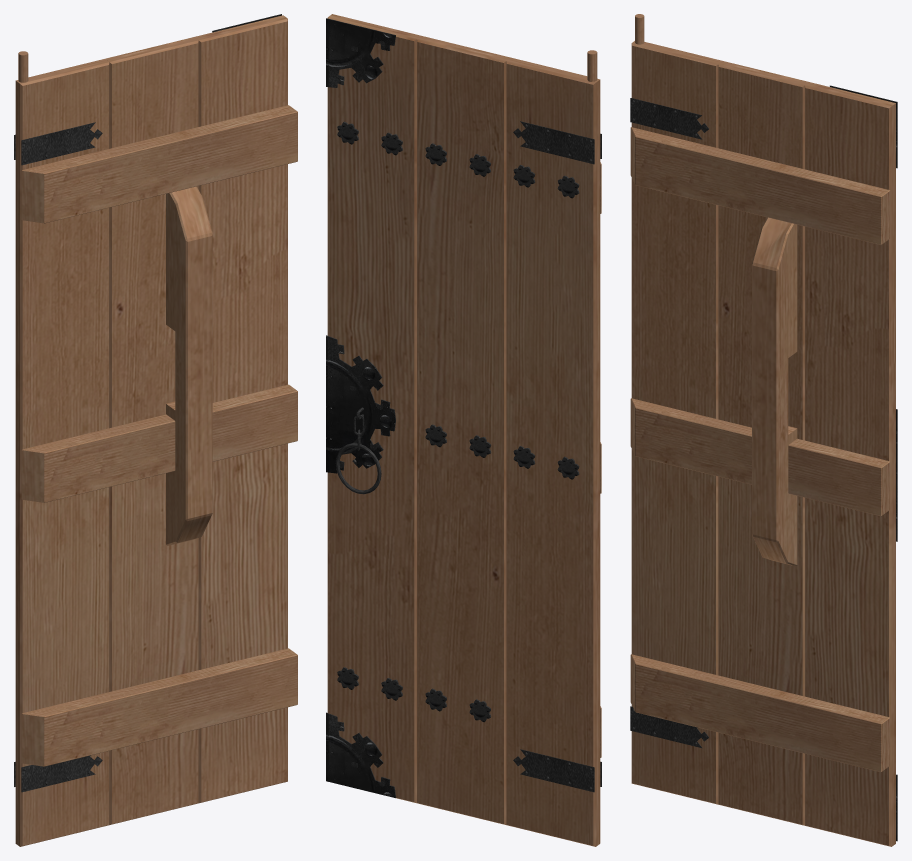
The model's file is SM_Gyedong_Door_02C.fbx.
3 views of the same model, side by side, from view 1: azimuth 30°, elevation 25°; view 2: azimuth 150°, elevation 25°; view 3: azimuth 330°, elevation 25° (orthographic). The views are drawn at different scales.
Parts seen in each view (by area): view 1: SM_Gyedong_Door_02C; view 2: SM_Gyedong_Door_02C; view 3: SM_Gyedong_Door_02C.
Boxes of the visible parts, x1,y1,x2,y2 form: SM_Gyedong_Door_02C: (14,14,297,846); SM_Gyedong_Door_02C: (326,14,601,846); SM_Gyedong_Door_02C: (630,14,897,846).
Bounding box in the file's own units: 58.61 × 165 × 12.84.
